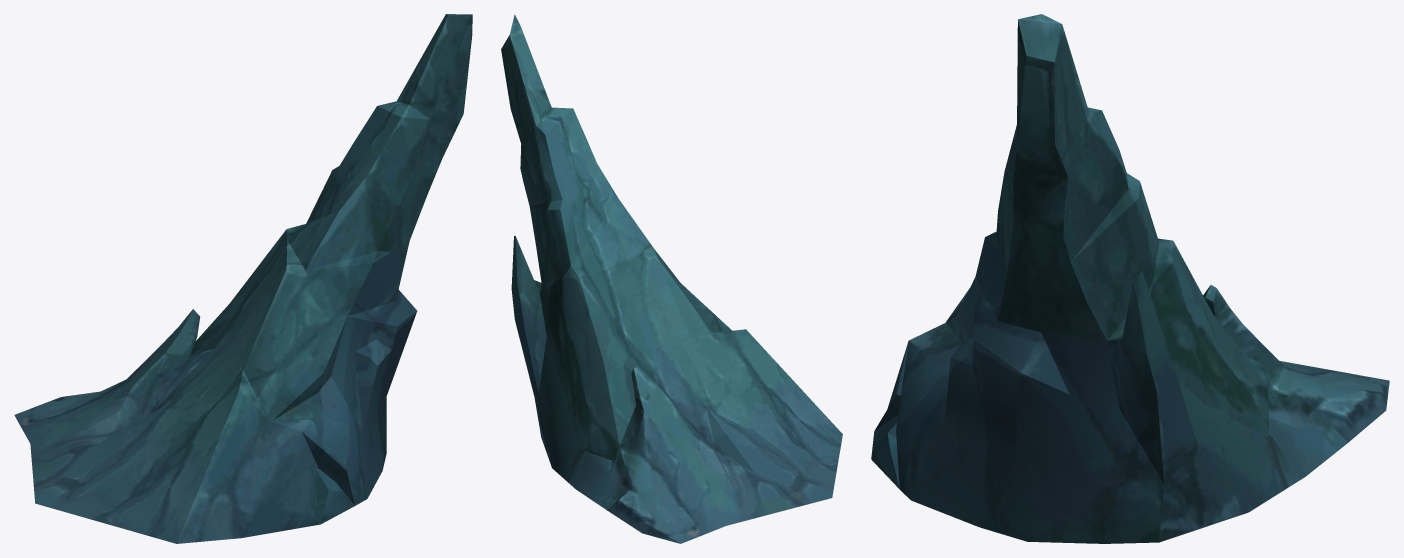
File: map_111_shitou_5.fbx
3 views of the same model, side by side, from view 1: azimuth 30°, elevation 25°; view 2: azimuth 150°, elevation 25°; view 3: azimuth 270°, elevation 25° (orthographic). The views are drawn at different scales.
Visible parts, largest first — view 1: map_111_shitou_5; view 2: map_111_shitou_5; view 3: map_111_shitou_5.
Part boxes in pixels (box(x1,y1,x2,y2)): map_111_shitou_5: box(14, 14, 472, 543); map_111_shitou_5: box(501, 14, 842, 543); map_111_shitou_5: box(871, 14, 1389, 543).
Bounding box in the file's own units: 2.2 × 2.21 × 1.8.
